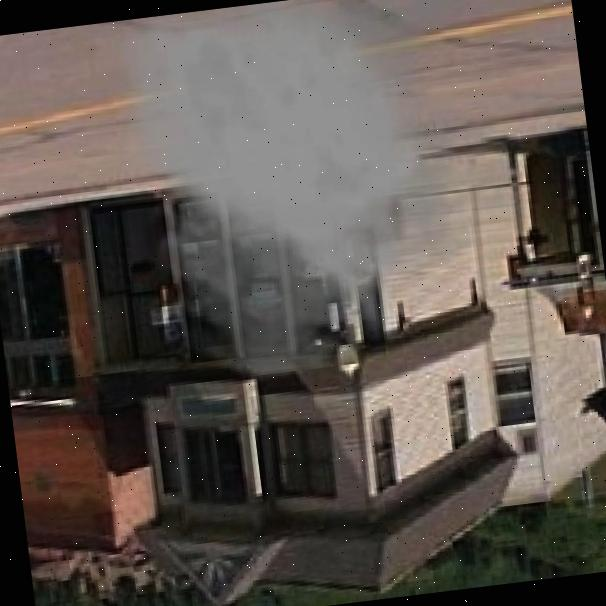smoke: (92, 0, 544, 401)
